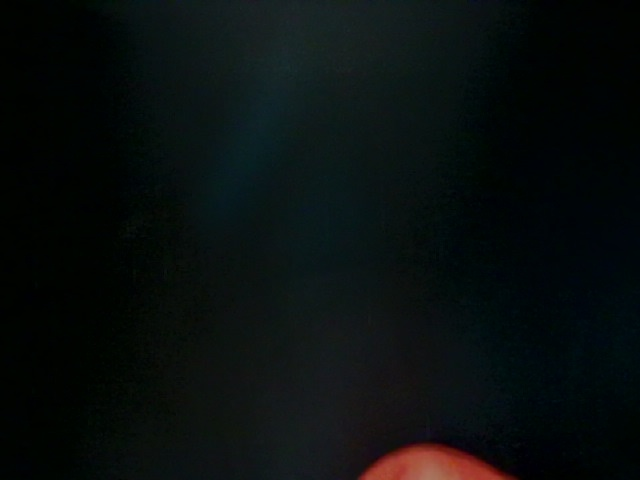YHLJ: (515, 28, 614, 108)
